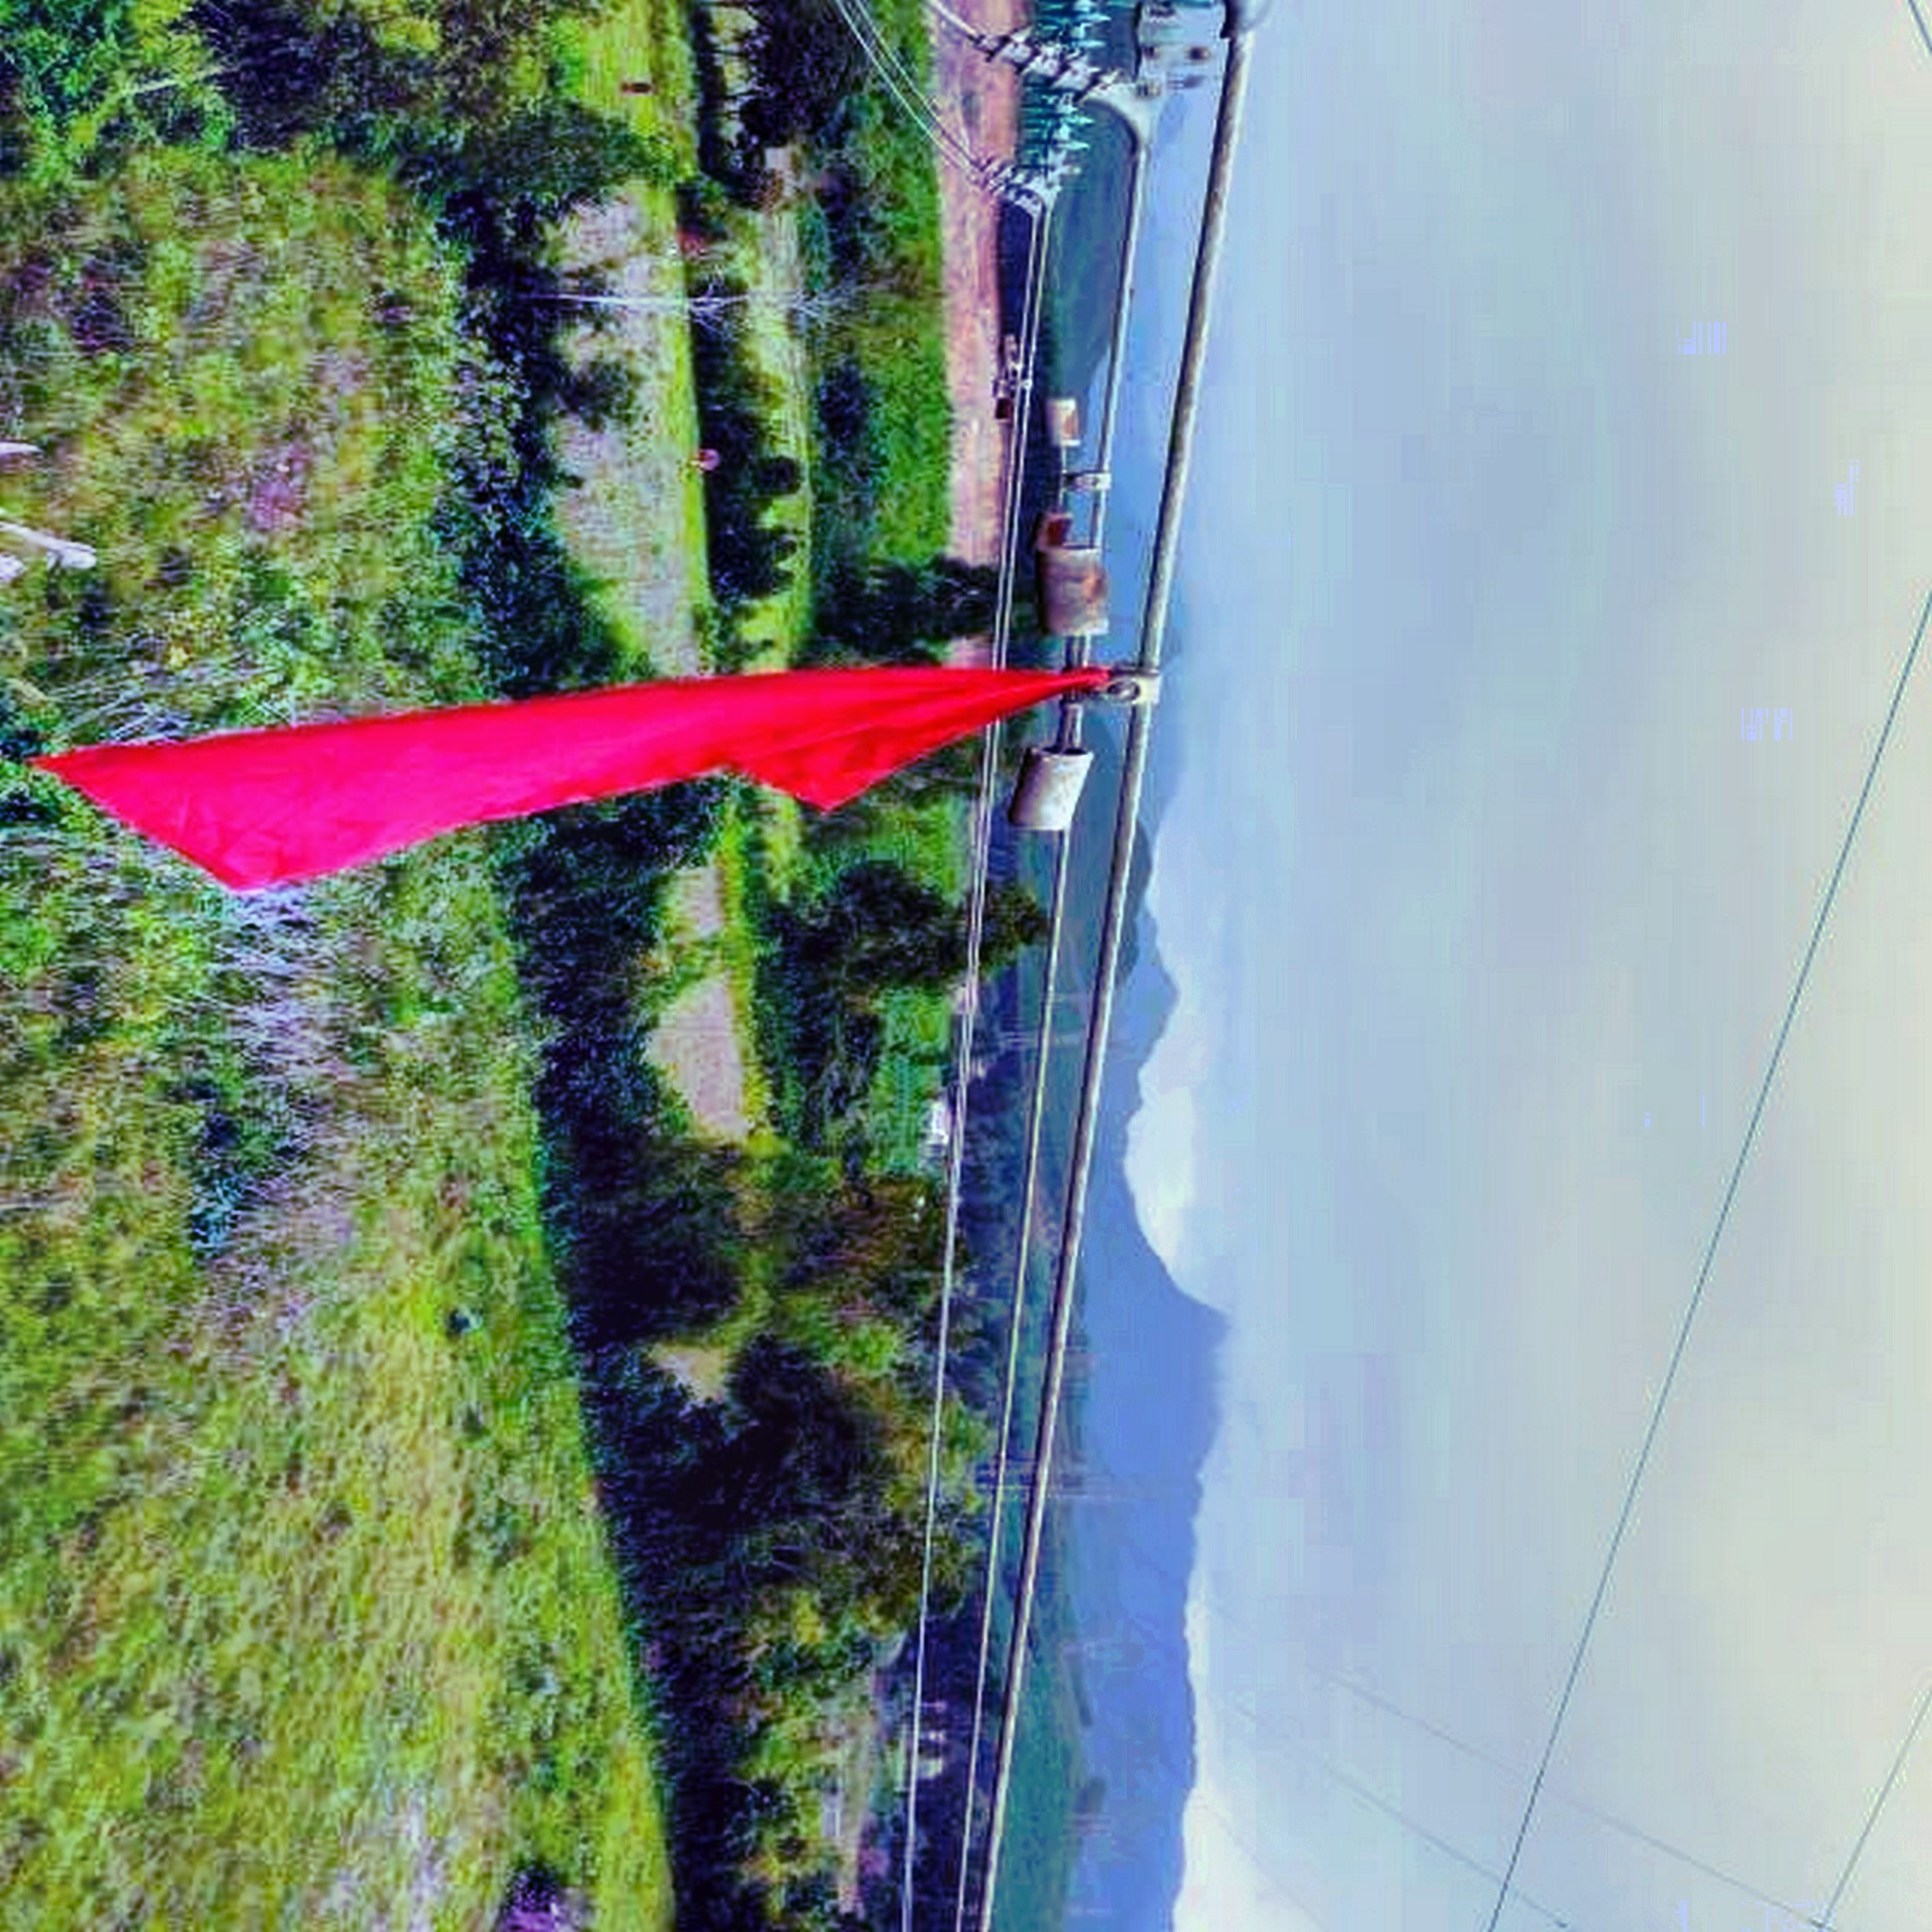wire foreign body: (88, 633, 1115, 936)
